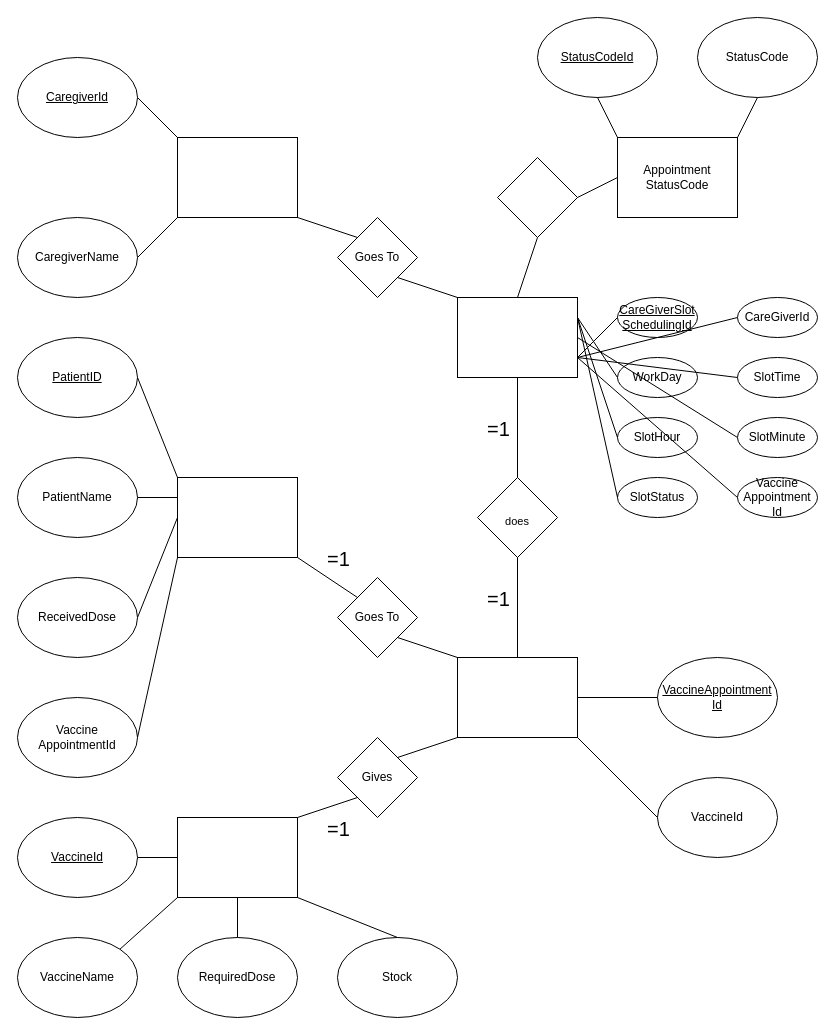
The diagram is 835 pixels wide and 1035 high, and some of its shapes have lost their labels. Each missing label, with the centre of its shape:
"Caregivers" belongs at point (237, 177).
"CareGiverSchedule" belongs at point (517, 337).
"Patients" belongs at point (237, 517).
"status is" belongs at point (537, 197).
"VaccineAppointment" belongs at point (517, 697).
"Vaccines" belongs at point (237, 857).
